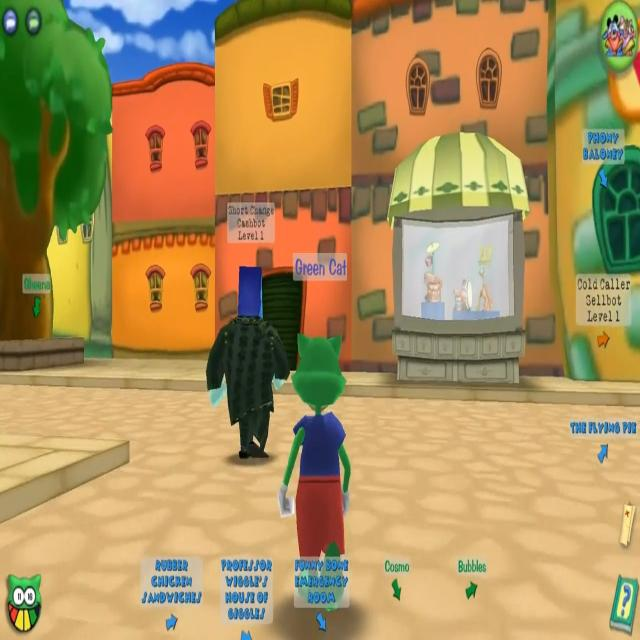shortchange: (206, 266, 288, 462)
